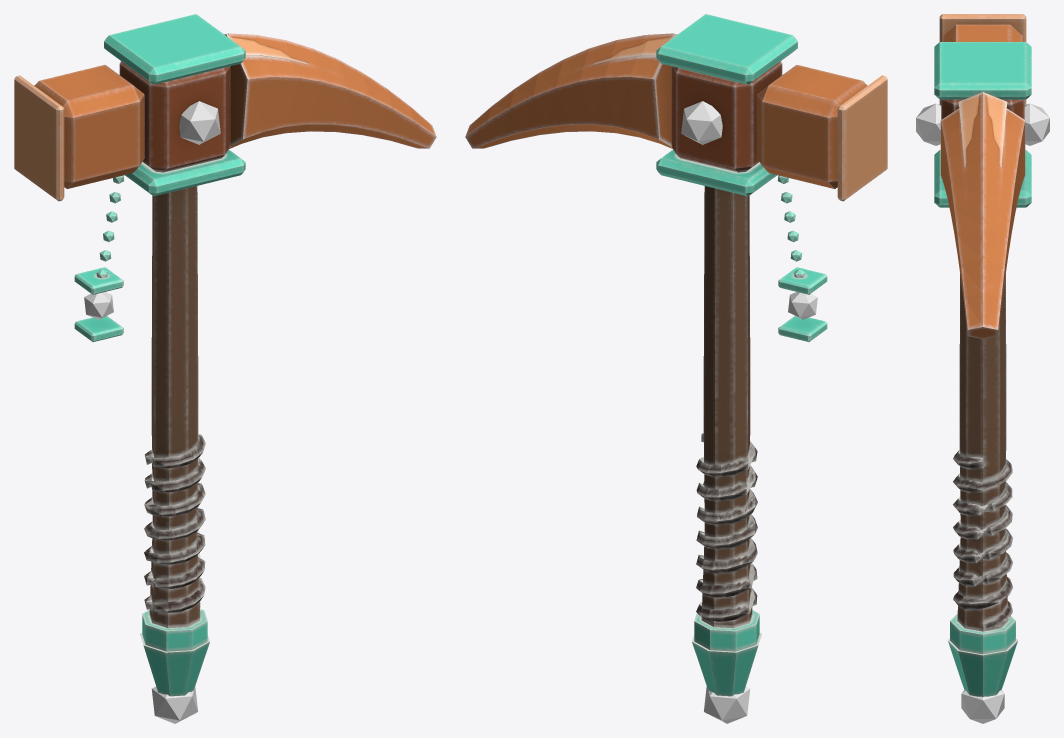
Rendered from CopperPickaxe.glb.
The picture shows the model from 3 angles, left to right: view 1: azimuth 30°, elevation 25°; view 2: azimuth 150°, elevation 25°; view 3: azimuth 270°, elevation 25°; orthographic projection. The views are drawn at different scales.
Visible parts, largest first — view 1: Body__Tex, Head__Gem, Head__Accent; view 2: Body__Tex, Head__Gem, Head__Accent; view 3: Body__Tex, Head__Gem.
Boxes of the visible parts, <box> form: Body__Tex: <box>14,14,436,696</box>; Head__Gem: <box>151,101,220,723</box>; Head__Accent: <box>84,292,113,319</box>; Body__Tex: <box>465,14,887,696</box>; Head__Gem: <box>681,101,750,723</box>; Head__Accent: <box>788,292,817,319</box>; Body__Tex: <box>934,14,1031,696</box>; Head__Gem: <box>916,103,1049,723</box>.
Bounding box in the file's own units: 2.46 × 4.04 × 0.7412.
Materials: 1 (1 with a texture image).
